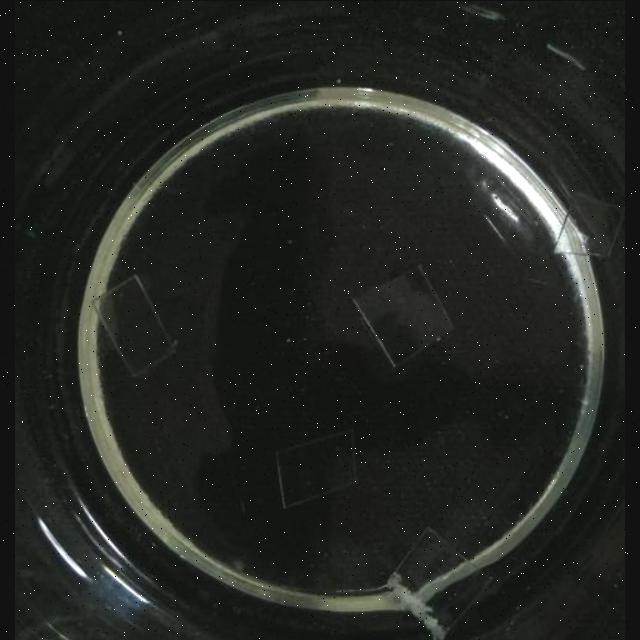Film: (348, 260, 456, 372), (88, 270, 178, 378), (276, 426, 358, 510), (391, 524, 471, 594), (550, 191, 624, 259)
